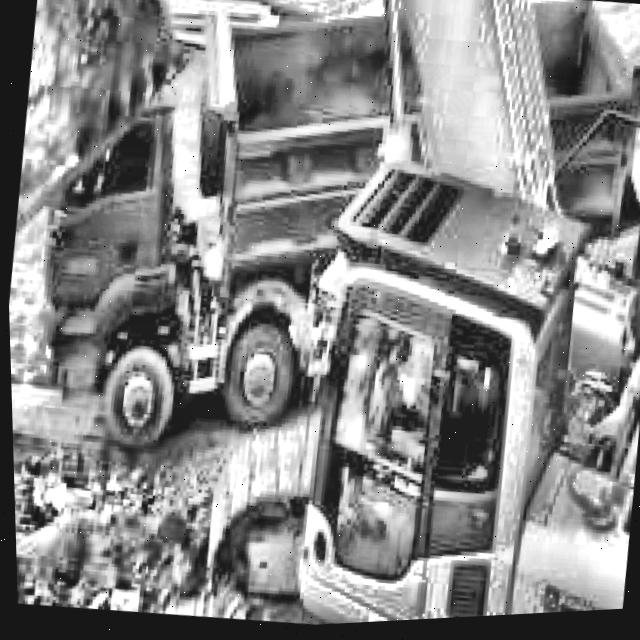dump_truck: (4, 0, 640, 515)
excavator: (0, 0, 640, 640)
